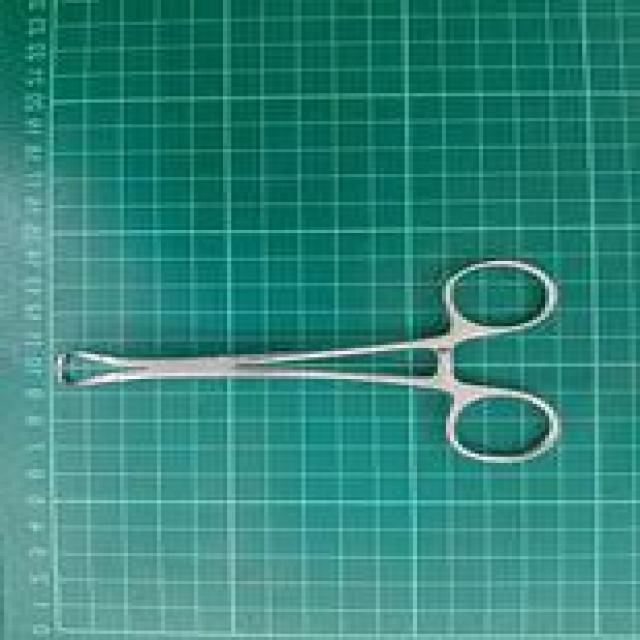Towel_clip: (49, 252, 570, 469)
